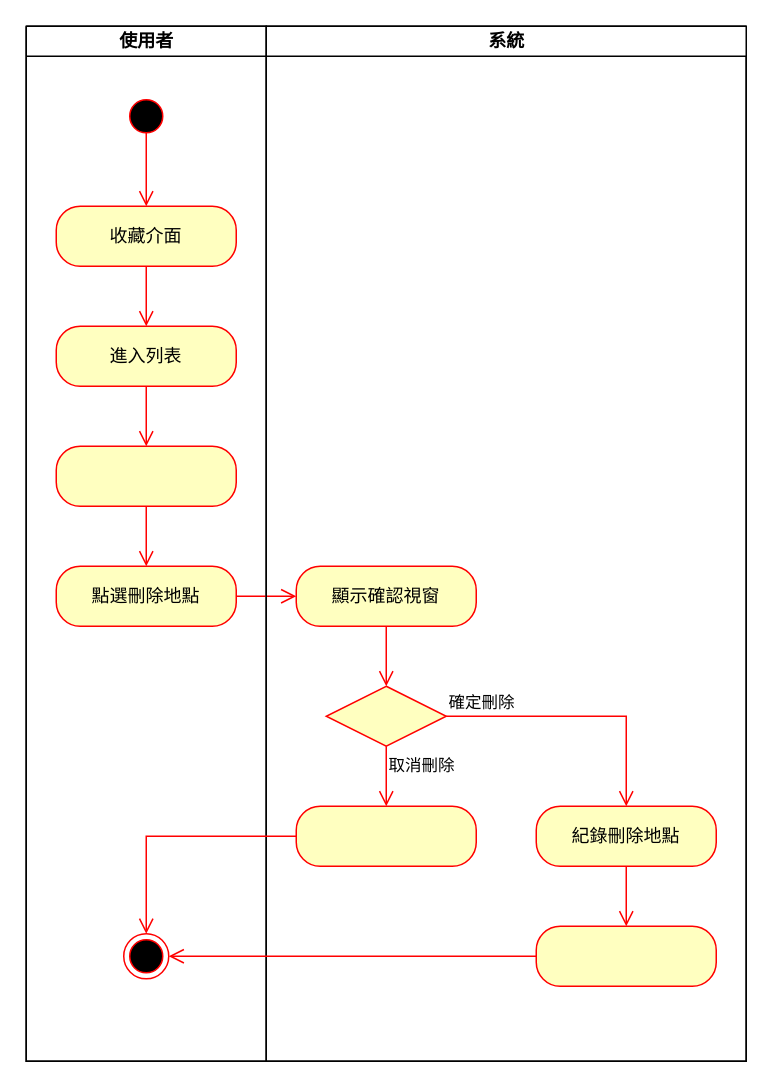
Image size: 773x1088. Some labels were removed from this diagram. Each missing label, with the centre of its shape:
"選擇地點" belongs at (145,475).
"顯示刪除失敗" belongs at (385,835).
"顯示刪除成功" belongs at (625,955).
